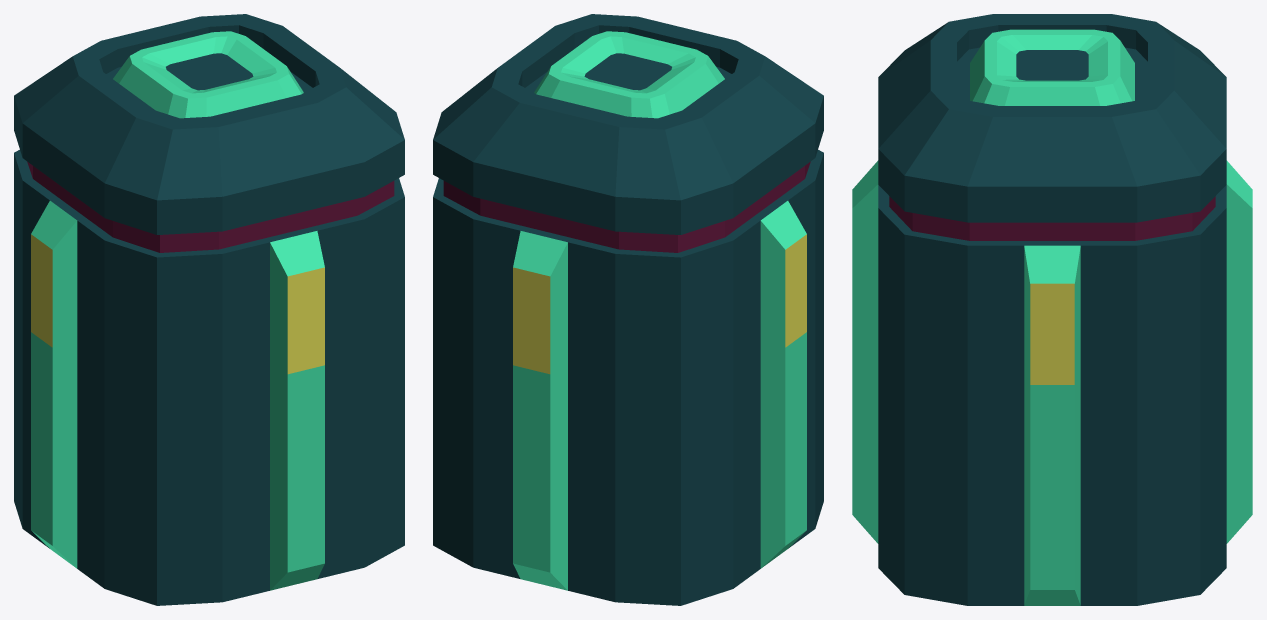
Rendered from 01_Prop_Caja_01.fbx.
3 renders of one model, left to right at view 1: azimuth 30°, elevation 25°; view 2: azimuth 150°, elevation 25°; view 3: azimuth 270°, elevation 25°, orthographic. The views are drawn at different scales.
Parts seen in each view (by area): view 1: Cube; view 2: Cube; view 3: Cube.
Boxes of the visible parts, bbox=[...] form: Cube: bbox=[14, 14, 404, 605]; Cube: bbox=[433, 14, 823, 605]; Cube: bbox=[852, 14, 1252, 605].
Size of the model in its own units: 590 by 771 by 590.
